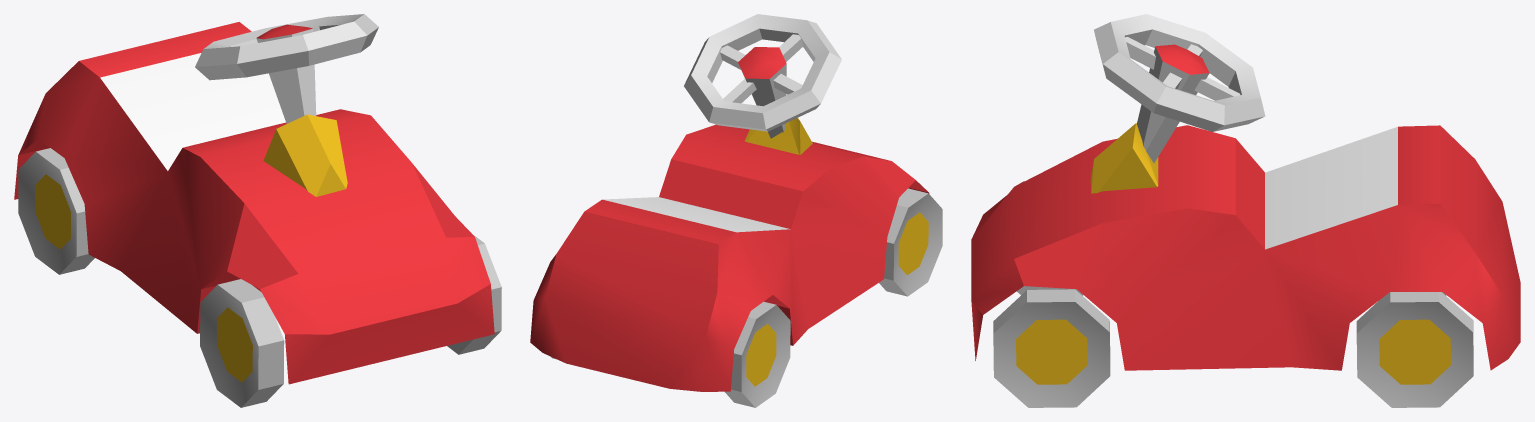
Rendered from AutoJuguete.fbx.
3 renders of one model, left to right at view 1: azimuth 30°, elevation 25°; view 2: azimuth 150°, elevation 25°; view 3: azimuth 270°, elevation 25°, orthographic. The views are drawn at different scales.
Parts seen in each view (by area): view 1: AutoJuguete; view 2: AutoJuguete; view 3: AutoJuguete.
Boxes of the visible parts, box(x1,y1,x2,y2) form: AutoJuguete: box(14, 14, 501, 407); AutoJuguete: box(530, 14, 942, 407); AutoJuguete: box(971, 14, 1520, 407).
Bounding box in the file's own units: 0.2118 × 0.2637 × 0.4131.
